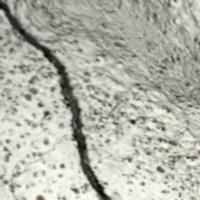crack: (1, 1, 140, 196)
